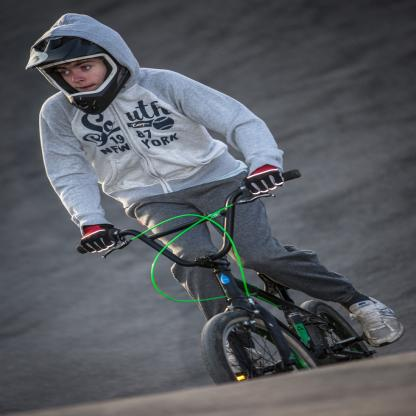Helmet: (25, 36, 130, 114)
